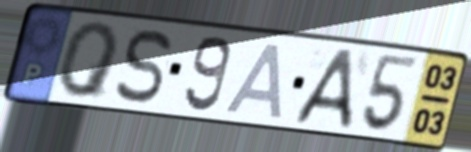5: (358, 50, 420, 134)
9: (184, 34, 233, 112)
A: (290, 47, 358, 131), (222, 41, 286, 122)
Q: (56, 20, 123, 102)
S: (111, 27, 175, 107)
